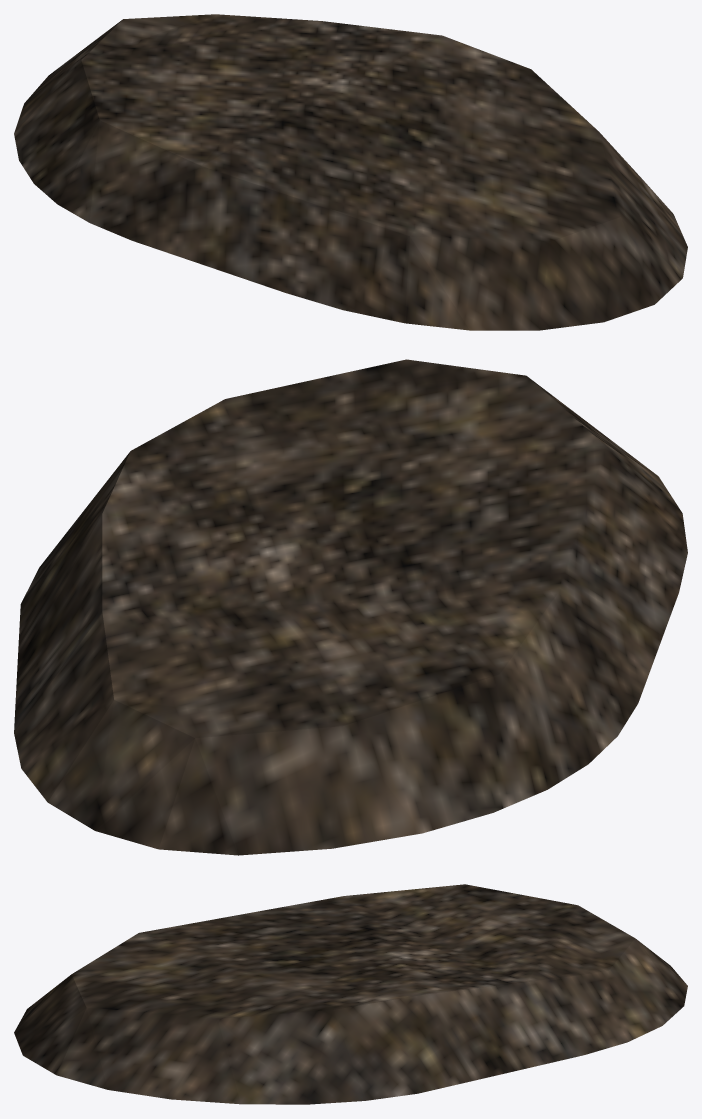
Rendered from SM_TI_Slab_4.fbx.
3 renders of one model, top to bottom at view 1: azimuth 30°, elevation 25°; view 2: azimuth 150°, elevation 25°; view 3: azimuth 270°, elevation 25°, orthographic. The views are drawn at different scales.
Visible parts, largest first — view 1: SM_TI_Slab_4; view 2: SM_TI_Slab_4; view 3: SM_TI_Slab_4.
Boxes of the visible parts, box(x1,y1,x2,y2) form: SM_TI_Slab_4: box(14, 14, 687, 330); SM_TI_Slab_4: box(14, 359, 687, 855); SM_TI_Slab_4: box(14, 884, 687, 1104).
Bounding box in the file's own units: 1.35 × 2.02 × 0.2395.
